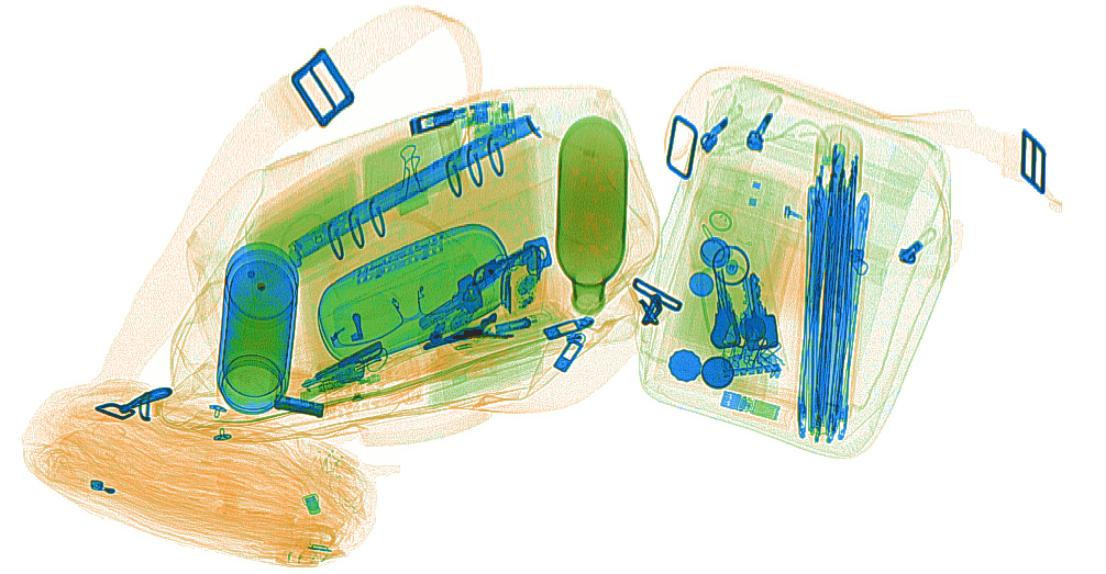USBFlashDisk: (719, 390, 781, 423)
